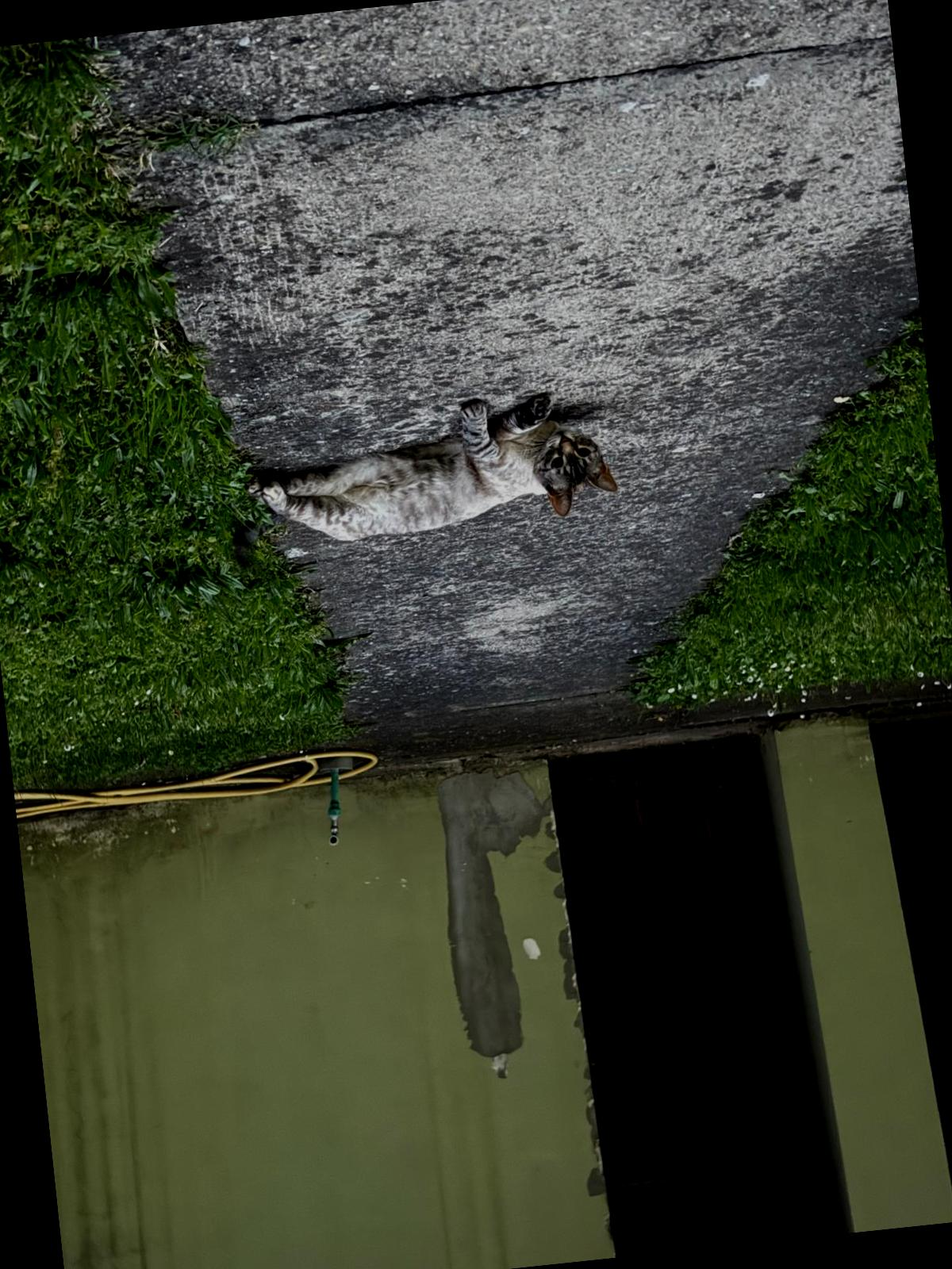macka: (240, 386, 622, 554)
